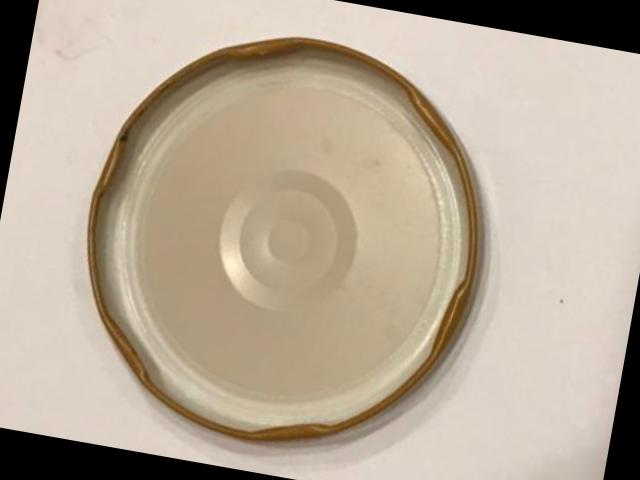metal: (86, 35, 475, 436)
